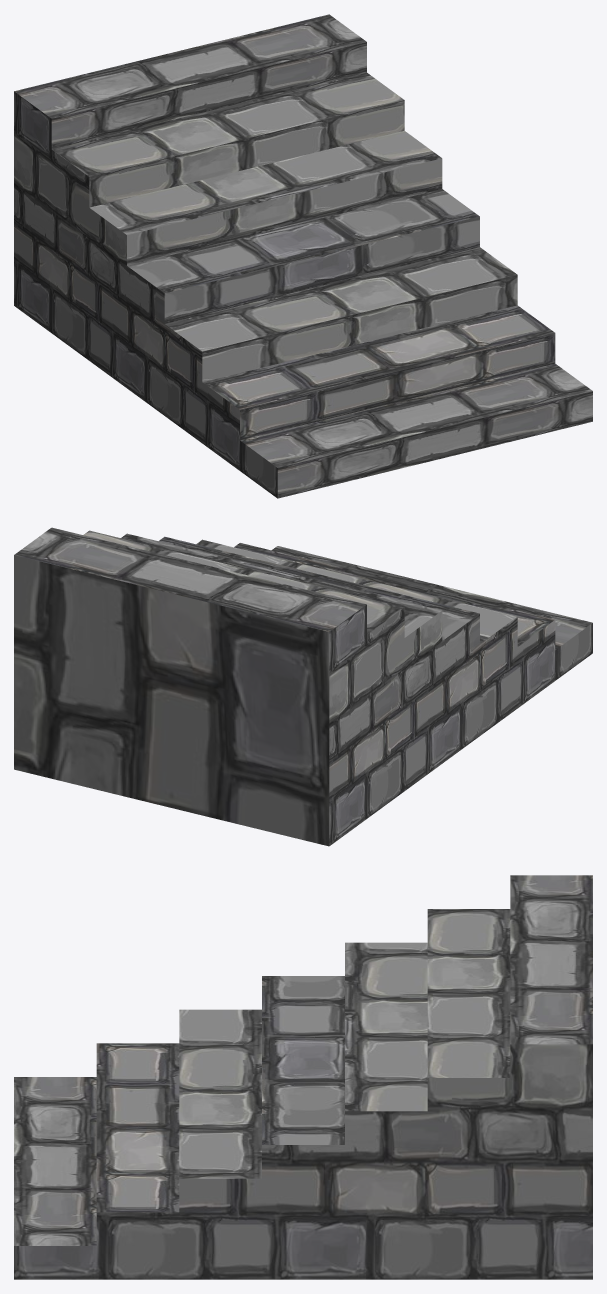
Rendered from escalera.fbx.
The picture shows the model from 3 angles, top to bottom: view 1: azimuth 30°, elevation 25°; view 2: azimuth 150°, elevation 25°; view 3: azimuth 270°, elevation 25°; orthographic projection. The views are drawn at different scales.
Parts seen in each view (by area): view 1: Cube; view 2: Cube; view 3: Cube.
Part boxes in pixels (x1,y1,x2,y2): Cube: (14,14,592,498); Cube: (14,527,592,846); Cube: (14,875,592,1279).
Size of the model in its own units: 1146 by 745 by 1660.
